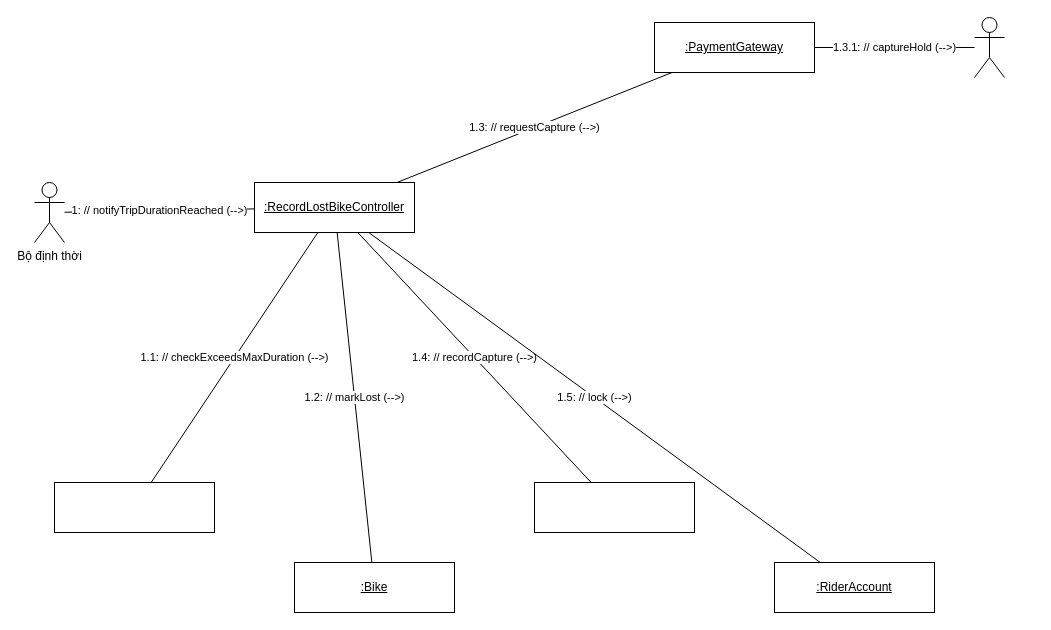
This 1051x630 diagram has some shape labels left out. The shapes that lost their labels are listed below. From the top down, each one's centre as x and y in pixels, then its label:
At (989,47): "Cổng thanh toán".
At (134,507): ":Trip".
At (614,507): ":PaymentHold".
